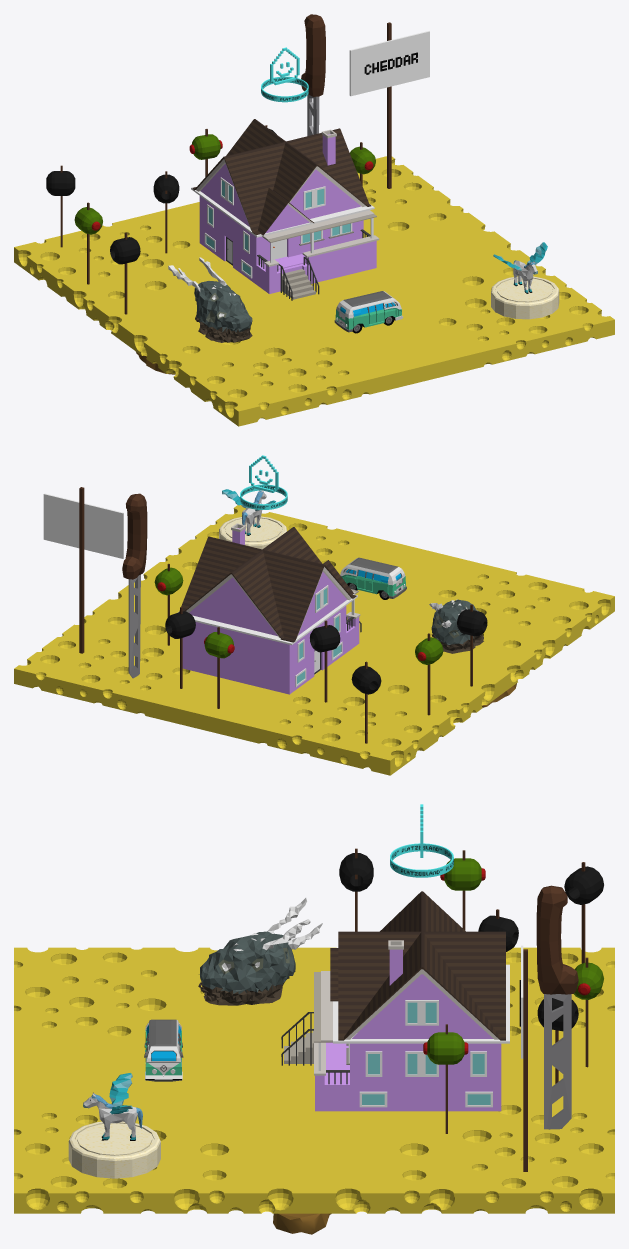
3 views of the same model, one above another, from view 1: azimuth 30°, elevation 25°; view 2: azimuth 150°, elevation 25°; view 3: azimuth 270°, elevation 25° (orthographic). The views are drawn at different scales.
Parts seen in each view (by area): view 1: Cube.022, Cube.391, Cube.023, OBJRANDOM_METEORITE, Cylinder.016, Cube.024, VEHICLES_VAN, TYPE_PREMIUM, Sphere.017, ANIMAL_PEGASO, Sphere.016, Sphere.020 (+3 smaller); view 2: Cube.022, Cube.391, Cube.023, Cube.024, VEHICLES_VAN, OBJRANDOM_METEORITE, Cylinder.016, TYPE_PREMIUM, Sphere.020, Sphere.017, Sphere.021, Sphere.018 (+4 smaller); view 3: Cube.022, Cube.391, OBJRANDOM_METEORITE, Cube.024, Cylinder.016, VEHICLES_VAN, ANIMAL_PEGASO, Sphere.016, Cube.023, Sphere.019, TYPE_PREMIUM, Sphere.018 (+5 smaller).
Boxes of the visible parts, x1,y1,x2,y2 form: Cube.022: (14,156,614,426); Cube.391: (191,119,379,300); Cube.023: (349,22,429,188); OBJRANDOM_METEORITE: (168,257,252,342); Cylinder.016: (491,276,559,319); Cube.024: (301,14,325,136); VEHICLES_VAN: (334,291,403,333); TYPE_PREMIUM: (261,47,308,102); Sphere.017: (110,232,140,314); ANIMAL_PEGASO: (493,242,547,293); Sphere.016: (46,165,75,247); Sphere.020: (153,171,179,253); Cube.022: (14,505,614,775); Cube.391: (178,523,361,694); Cube.023: (43,487,123,653); Cube.024: (122,493,147,678); VEHICLES_VAN: (340,557,406,599); OBJRANDOM_METEORITE: (429,599,483,653); Cylinder.016: (219,516,286,549); TYPE_PREMIUM: (240,455,287,509); Sphere.020: (310,620,340,702); Sphere.017: (457,604,487,686); Sphere.021: (165,607,195,688); Sphere.018: (415,633,443,715); Cube.022: (14,947,614,1213); Cube.391: (281,891,509,1111); OBJRANDOM_METEORITE: (198,898,322,1005); Cube.024: (536,885,578,1129); Cylinder.016: (68,1121,160,1178); VEHICLES_VAN: (144,1019,183,1081); ANIMAL_PEGASO: (83,1073,142,1140); Sphere.016: (564,862,603,963); Cube.023: (519,945,527,1171); Sphere.019: (423,1024,468,1133); TYPE_PREMIUM: (390,804,453,877); Sphere.018: (440,850,485,930).
Size of the model in its own units: 3928 by 2337 by 4000.
43 materials, 4 textured.
